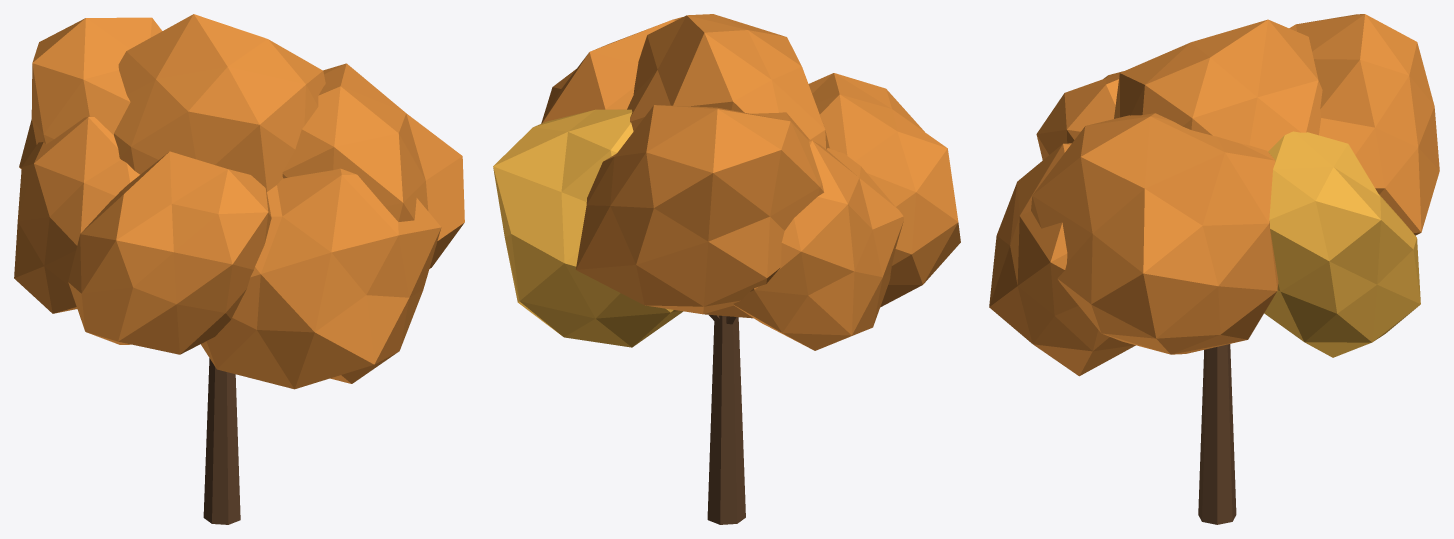
File: maple-orange.glb
The picture shows the model from 3 angles, left to right: view 1: azimuth 30°, elevation 25°; view 2: azimuth 150°, elevation 25°; view 3: azimuth 270°, elevation 25°; orthographic projection. The views are drawn at different scales.
Visible parts, largest first — view 1: tree; view 2: tree; view 3: tree.
Boxes of the visible parts, x1,y1,x2,y2 form: tree: (14, 14, 464, 524); tree: (493, 14, 960, 524); tree: (989, 14, 1439, 524).
Bounding box in the file's own units: 8.35 × 10.04 × 8.28.
